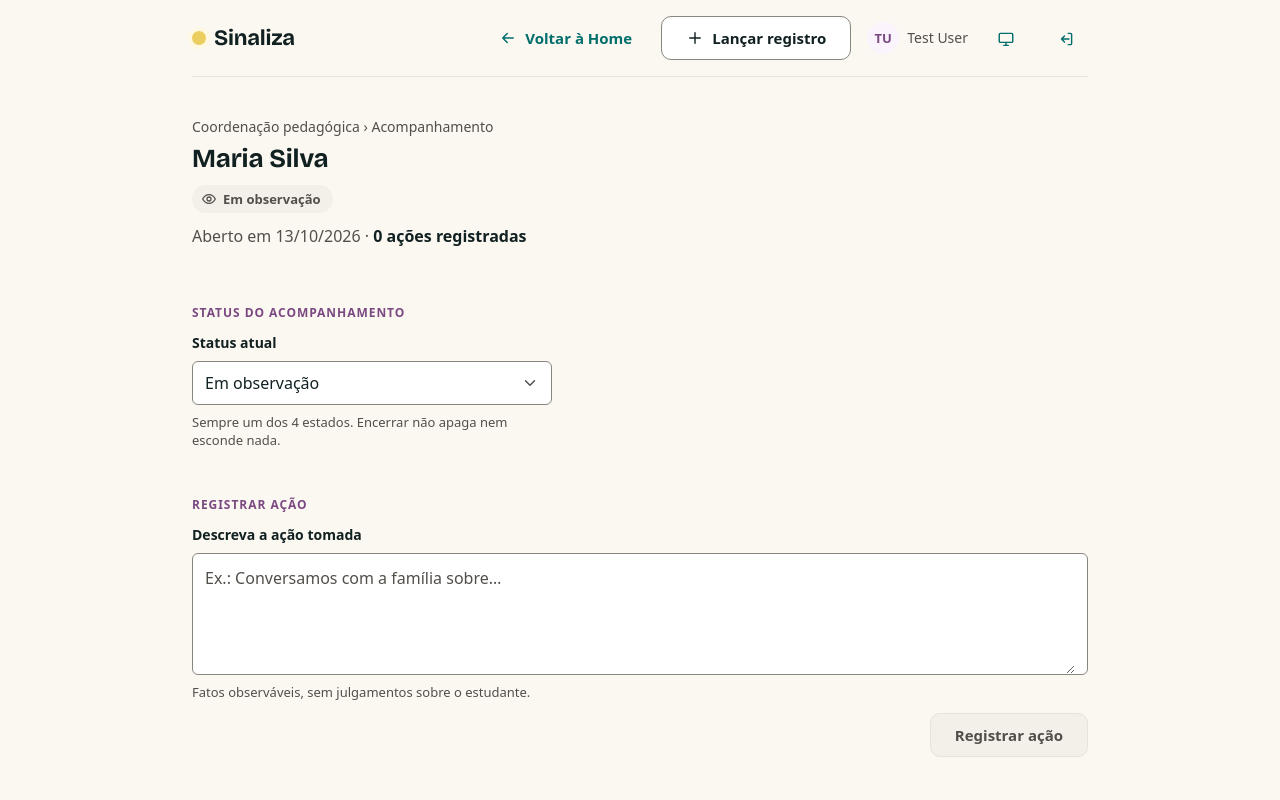
Test: Acompanhamento — tela de acompanhamento (Story 4.1) › submits a new action and shows "Registro salvo." on success
Check: the heading "Maria Silva" is shown, box 192,143 -> 328,174
Type "Conversei com a família." into the text box labelled "Descreva a ação tomada" at (640, 614), box 205,554 -> 1075,674
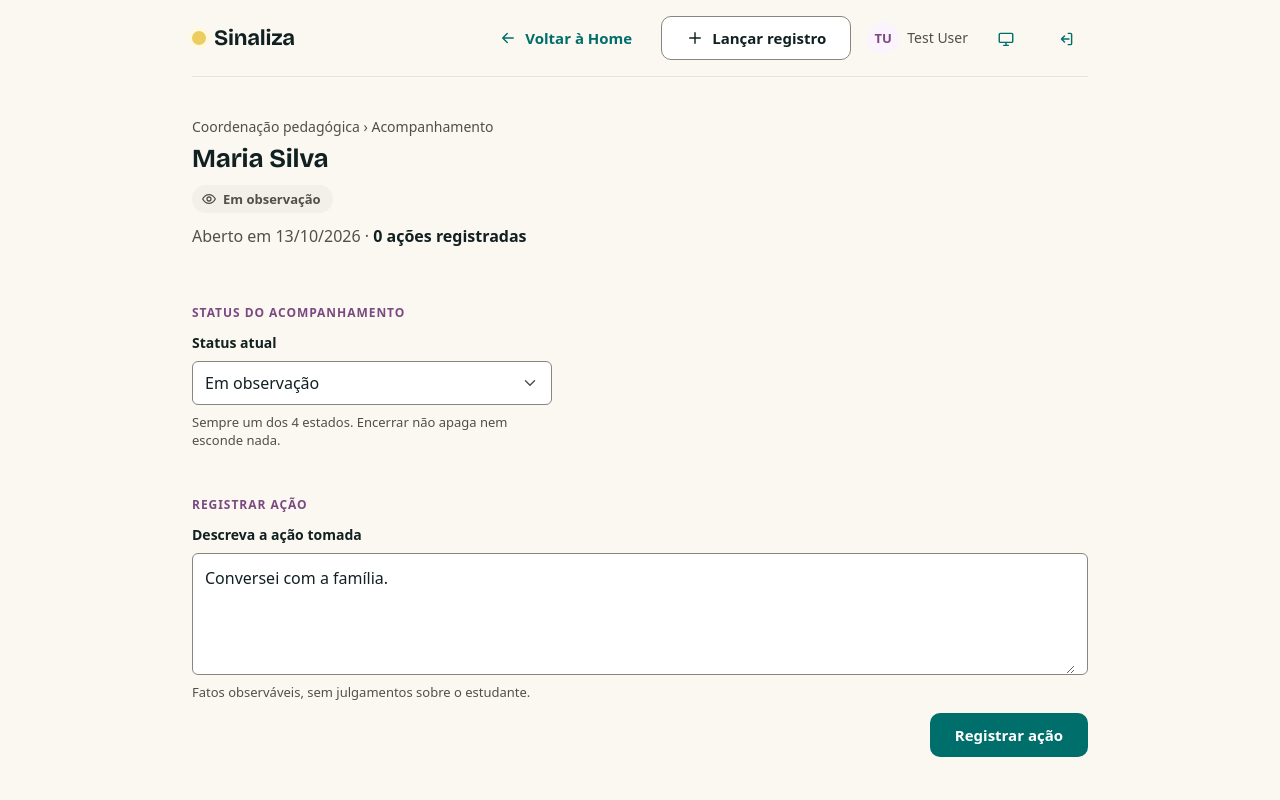
Click the button "Registrar ação" at (1009, 735), box 930,713 -> 1088,757
(page scrolled)
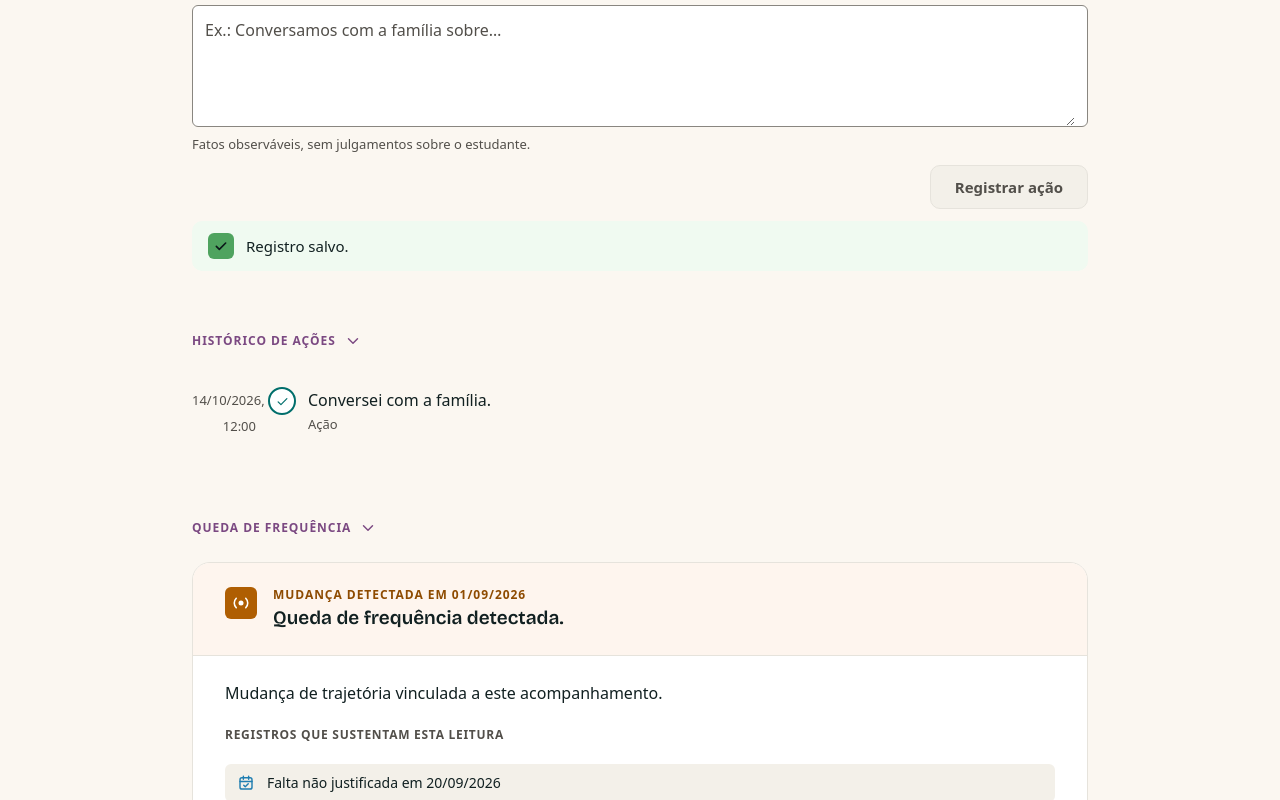
Check: the text "Registro salvo." is shown, box 246,236 -> 348,256
Check: the text "Conversei com a família." is shown, box 308,389 -> 491,411
